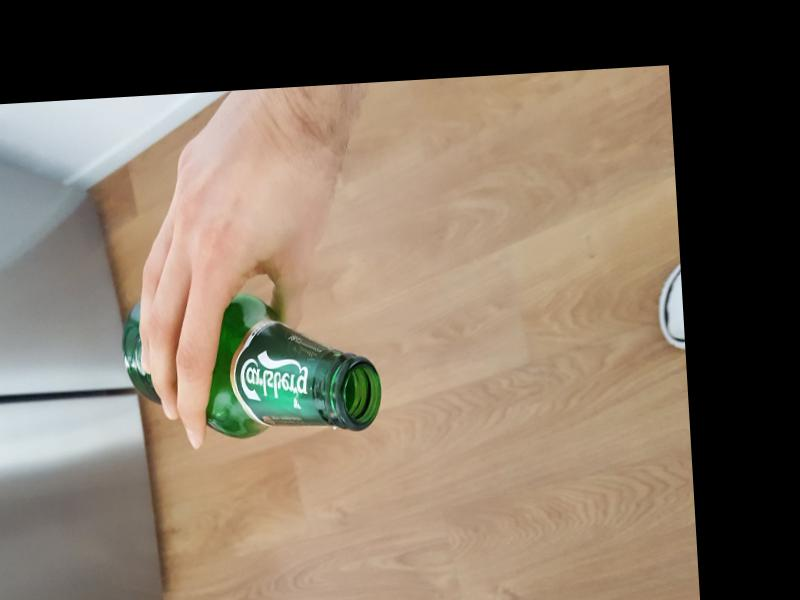Beer: (120, 286, 384, 443)
